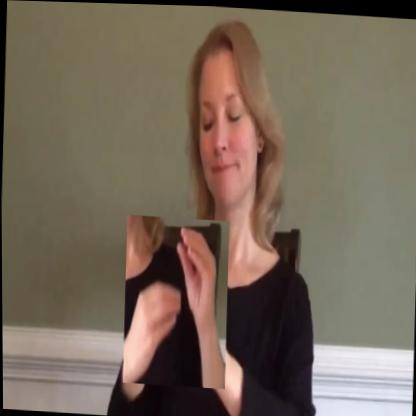Fix: (121, 214, 230, 388)
